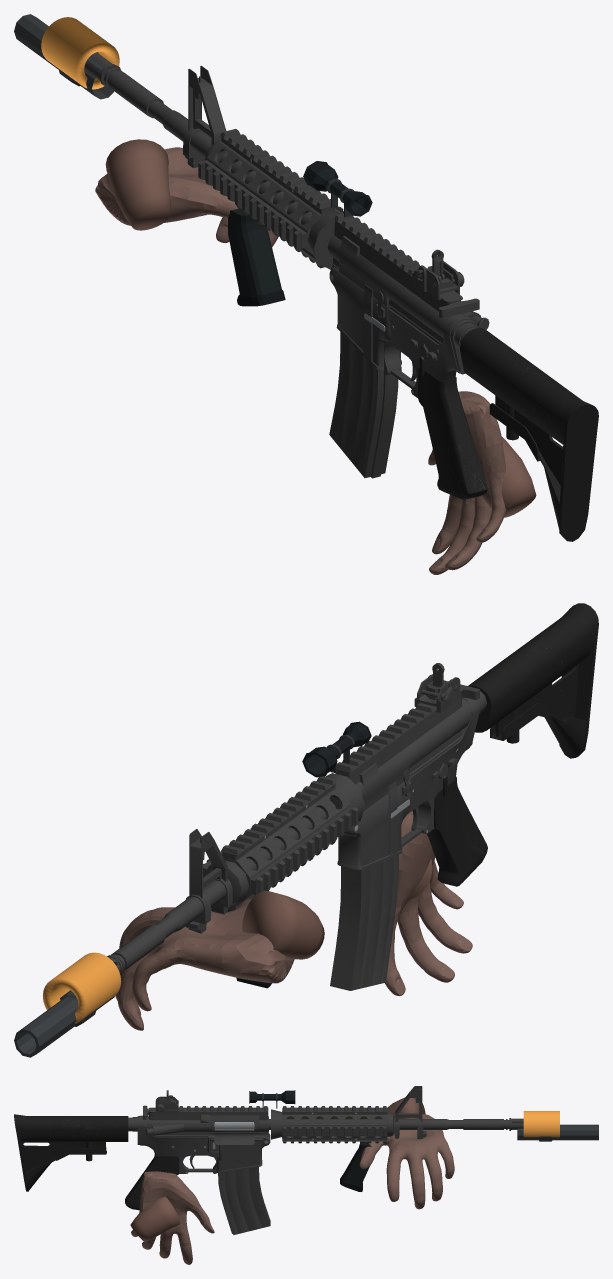
File: vanguard.glb
3 views of the same model, one above another, from view 1: azimuth 30°, elevation 25°; view 2: azimuth 150°, elevation 25°; view 3: azimuth 270°, elevation 25° (orthographic). The views are drawn at different scales.
Parts seen in each view (by area): view 1: AUTHORED m4a1 M4A1Body_01_Base, AUTHORED m4a1 StockGeometry, AUTHORED m4a1 M4A1Body_00_Barrel, AUTHORED m4a1 MagazineGeometry, vanguard ONE_HAND RIGHT REAL ANATOMICAL CC0 HAND, vanguard TWO_HAND LEFT short wrist stub, vanguard TWO_HAND LEFT REAL ANATOMICAL CC0 HAND, AUTHORED m4a1 ForegripGeometry, AIRSOFT_ORANGE_TIP_07 - fitted hollow muzzle sleeve, AUTHORED m4a1 FrontIronSightGeometry, vanguard ONE_HAND RIGHT short wrist stub, AUTHORED m4a1 OpticMountGeometry (+2 smaller); view 2: AUTHORED m4a1 M4A1Body_01_Base, AUTHORED m4a1 M4A1Body_00_Barrel, AUTHORED m4a1 StockGeometry, vanguard TWO_HAND LEFT REAL ANATOMICAL CC0 HAND, AUTHORED m4a1 MagazineGeometry, vanguard ONE_HAND RIGHT REAL ANATOMICAL CC0 HAND, vanguard TWO_HAND LEFT short wrist stub, AIRSOFT_ORANGE_TIP_07 - fitted hollow muzzle sleeve, AUTHORED m4a1 SuppressorGeometry, AUTHORED m4a1 OpticMountGeometry, AUTHORED m4a1 FrontIronSightGeometry, AUTHORED m4a1 RearIronSightGeometry_Sight; view 3: AUTHORED m4a1 M4A1Body_01_Base, AUTHORED m4a1 M4A1Body_00_Barrel, AUTHORED m4a1 StockGeometry, vanguard TWO_HAND LEFT REAL ANATOMICAL CC0 HAND, vanguard ONE_HAND RIGHT REAL ANATOMICAL CC0 HAND, AUTHORED m4a1 MagazineGeometry, vanguard ONE_HAND RIGHT short wrist stub, AIRSOFT_ORANGE_TIP_07 - fitted hollow muzzle sleeve, AUTHORED m4a1 SuppressorGeometry, AUTHORED m4a1 ForegripGeometry, AUTHORED m4a1 M4A1Body_03_Ejector_Lid, AUTHORED m4a1 FrontIronSightGeometry (+4 smaller).
Boxes of the visible parts, x1,y1,x2,y2 form: AUTHORED m4a1 M4A1Body_01_Base: (327,213,489,499); AUTHORED m4a1 StockGeometry: (454,323,598,541); AUTHORED m4a1 M4A1Body_00_Barrel: (99,64,343,269); AUTHORED m4a1 MagazineGeometry: (329,332,398,478); vanguard ONE_HAND RIGHT REAL ANATOMICAL CC0 HAND: (428,391,506,574); vanguard TWO_HAND LEFT short wrist stub: (105,139,170,230); vanguard TWO_HAND LEFT REAL ANATOMICAL CC0 HAND: (95,147,278,247); AUTHORED m4a1 ForegripGeometry: (228,208,285,306); AIRSOFT_ORANGE_TIP_07 - fitted hollow muzzle sleeve: (41,17,119,89); AUTHORED m4a1 FrontIronSightGeometry: (188,65,226,145); vanguard ONE_HAND RIGHT short wrist stub: (482,437,536,517); AUTHORED m4a1 OpticMountGeometry: (303,161,372,217); AUTHORED m4a1 M4A1Body_01_Base: (335,687,487,886); AUTHORED m4a1 M4A1Body_00_Barrel: (107,773,365,975); AUTHORED m4a1 StockGeometry: (468,603,598,758); vanguard TWO_HAND LEFT REAL ANATOMICAL CC0 HAND: (115,899,294,1030); AUTHORED m4a1 MagazineGeometry: (330,855,398,990); vanguard ONE_HAND RIGHT REAL ANATOMICAL CC0 HAND: (384,811,472,995); vanguard TWO_HAND LEFT short wrist stub: (242,891,324,959); AIRSOFT_ORANGE_TIP_07 - fitted hollow muzzle sleeve: (43,952,121,1023); AUTHORED m4a1 SuppressorGeometry: (14,990,114,1057); AUTHORED m4a1 OpticMountGeometry: (302,721,371,777); AUTHORED m4a1 FrontIronSightGeometry: (189,829,227,898); AUTHORED m4a1 RearIronSightGeometry_Sight: (414,674,460,712); AUTHORED m4a1 M4A1Body_01_Base: (125,1106,270,1210); AUTHORED m4a1 M4A1Body_00_Barrel: (269,1106,510,1143); AUTHORED m4a1 StockGeometry: (14,1114,137,1191); vanguard TWO_HAND LEFT REAL ANATOMICAL CC0 HAND: (359,1114,454,1209); vanguard ONE_HAND RIGHT REAL ANATOMICAL CC0 HAND: (131,1171,214,1264); AUTHORED m4a1 MagazineGeometry: (218,1167,270,1235); vanguard ONE_HAND RIGHT short wrist stub: (130,1196,180,1241); AIRSOFT_ORANGE_TIP_07 - fitted hollow muzzle sleeve: (523,1111,559,1137); AUTHORED m4a1 SuppressorGeometry: (517,1124,598,1141); AUTHORED m4a1 ForegripGeometry: (340,1141,371,1191); AUTHORED m4a1 M4A1Body_03_Ejector_Lid: (208,1132,260,1144); AUTHORED m4a1 FrontIronSightGeometry: (395,1086,422,1121).
Bounding box in the file's own units: 0.219 × 0.3435 × 1.06.
10 materials, 1 textured.
